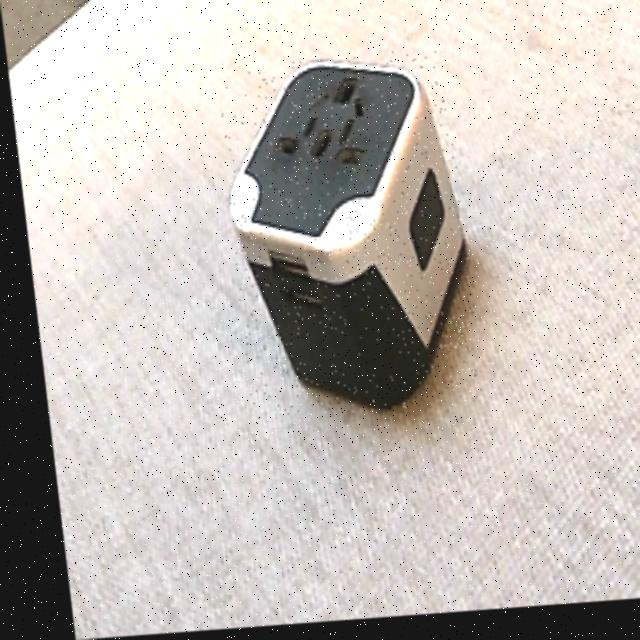adapter: (210, 55, 474, 422)
